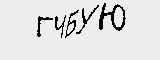Б: (65, 9, 78, 39)
Г: (35, 12, 52, 37)
У: (75, 5, 97, 34)
Ч: (51, 14, 66, 39)
Ю: (98, 1, 127, 31)
